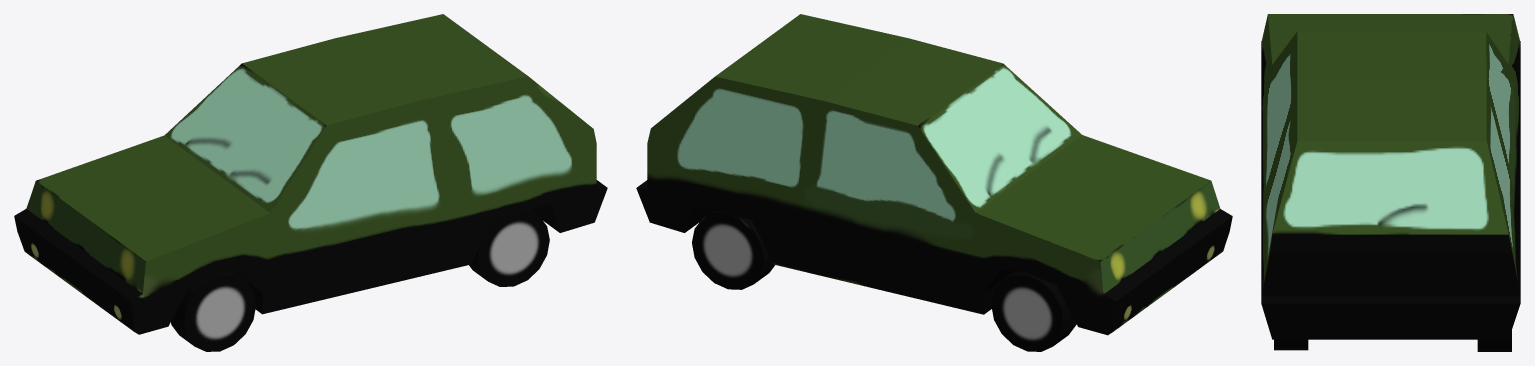
The model's file is Panda.glb.
3 renders of one model, left to right at view 1: azimuth 30°, elevation 25°; view 2: azimuth 150°, elevation 25°; view 3: azimuth 270°, elevation 25°, orthographic. The views are drawn at different scales.
Visible parts, largest first — view 1: Cube; view 2: Cube; view 3: Cube.
Part boxes in pixels (x1=…): Cube: x1=14, y1=14, x2=607, y2=351; Cube: x1=636, y1=14, x2=1232, y2=351; Cube: x1=1261, y1=14, x2=1520, y2=351.
Bounding box in the file's own units: 1.78 × 0.7105 × 0.7512.
1 material, 1 textured.
